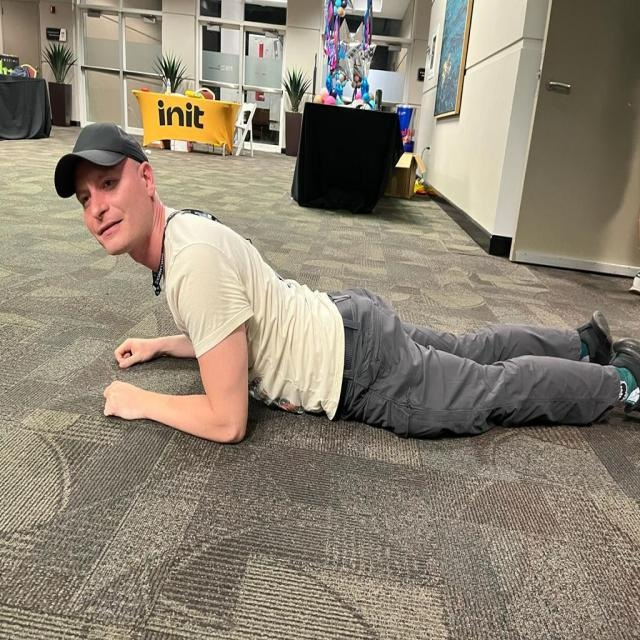plank: (48, 112, 640, 458)
